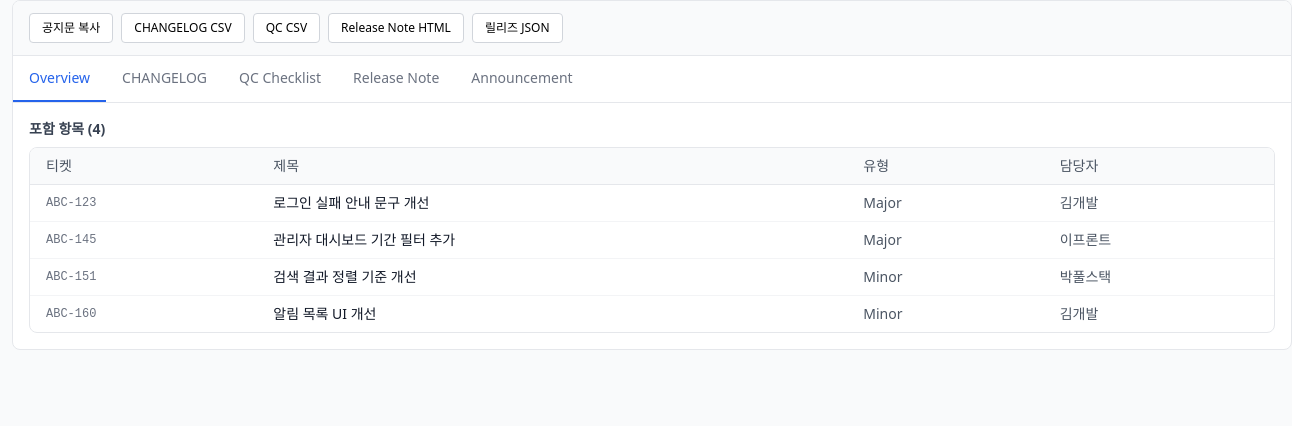
it: ReleaseDocumentTabs › switches to Release Note tab and shows only public items
The image size is (1292, 426).
Click the tab "Release Note".
click(396, 79)  # box [337,56,455,102]
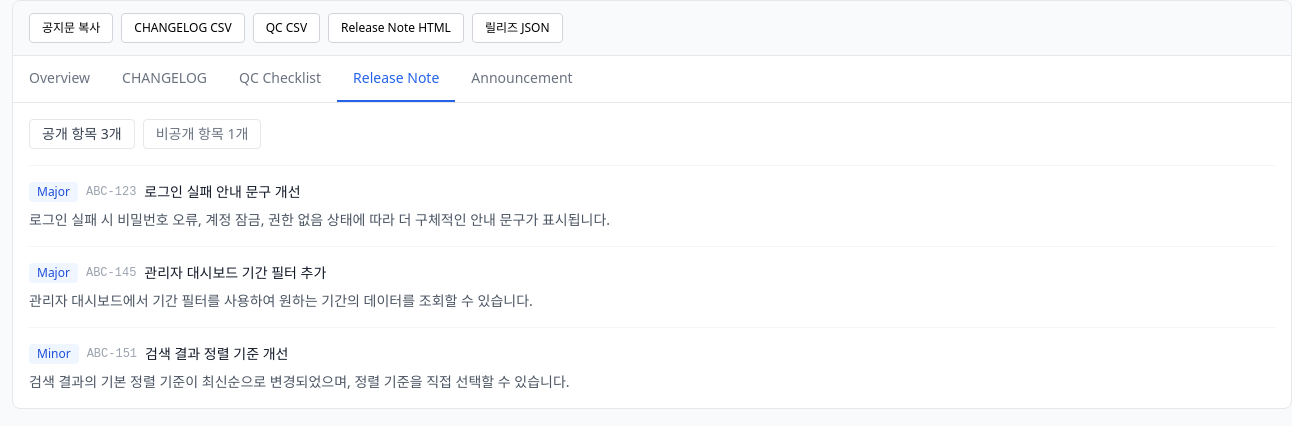
Expected: the text "공개 항목 3개" is shown, [29,119,135,149]
Expected: the text "비공개 항목 1개" is shown, [143,119,261,149]
Expected: the text "알림 목록 UI 개선" is gone
